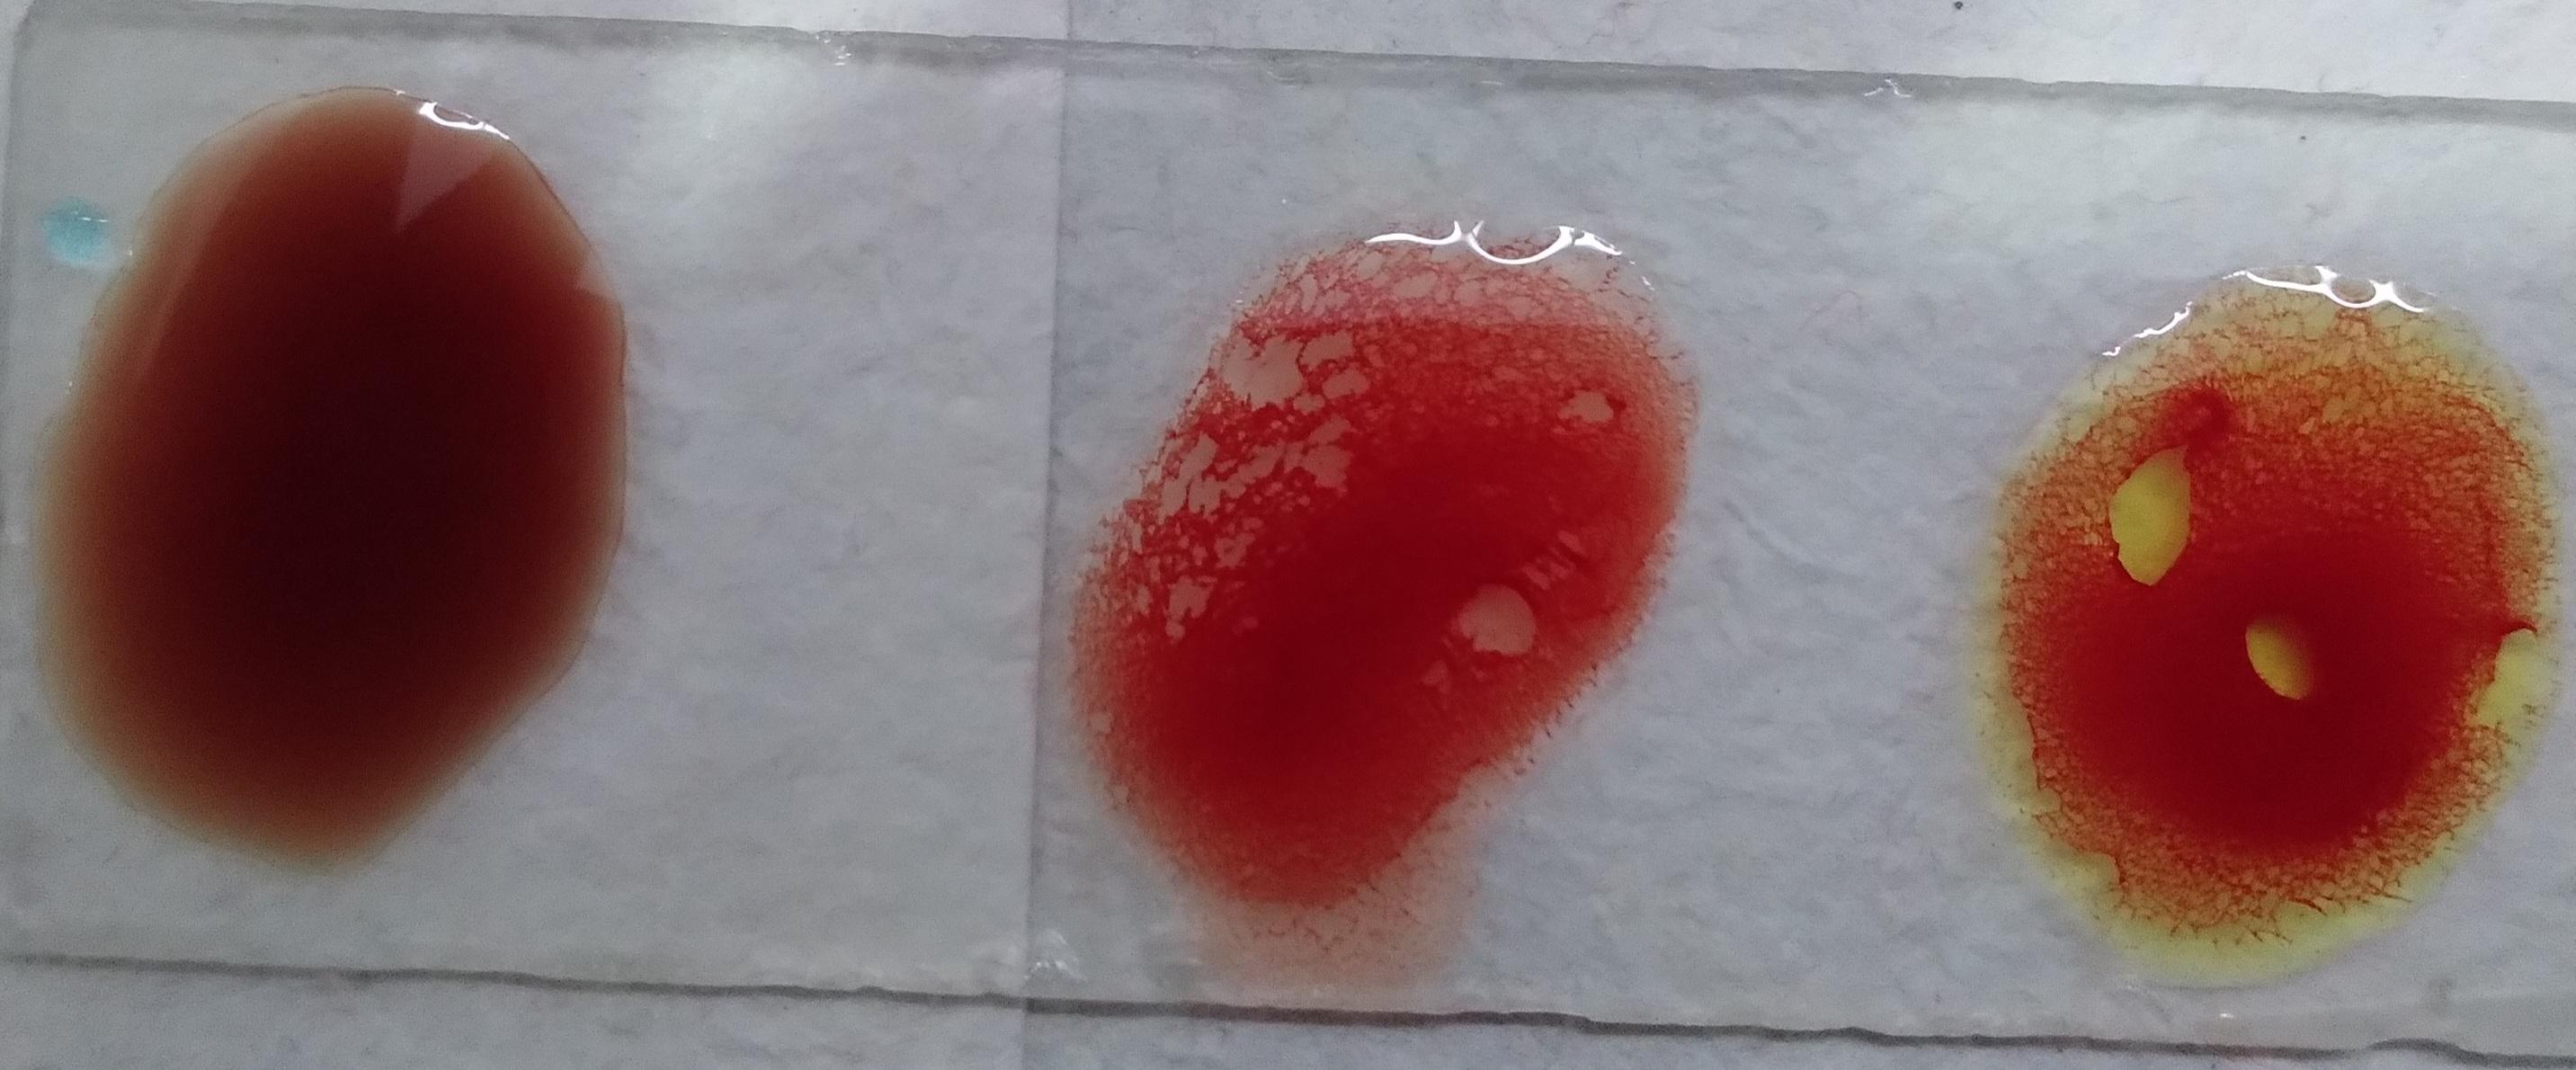B: (11, 72, 610, 809)
D: (885, 127, 1510, 850)
